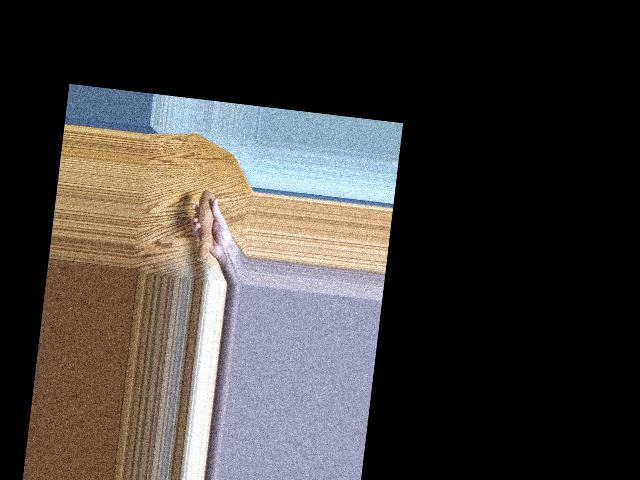sweet_potato: (190, 183, 227, 266)
